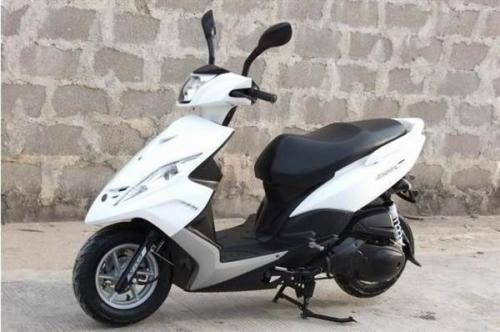motor: (56, 53, 431, 316)
